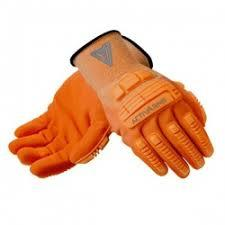gloves: (69, 29, 215, 179), (8, 70, 112, 180)
